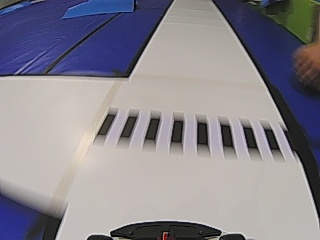CrossWalk: (90, 110, 281, 152)
